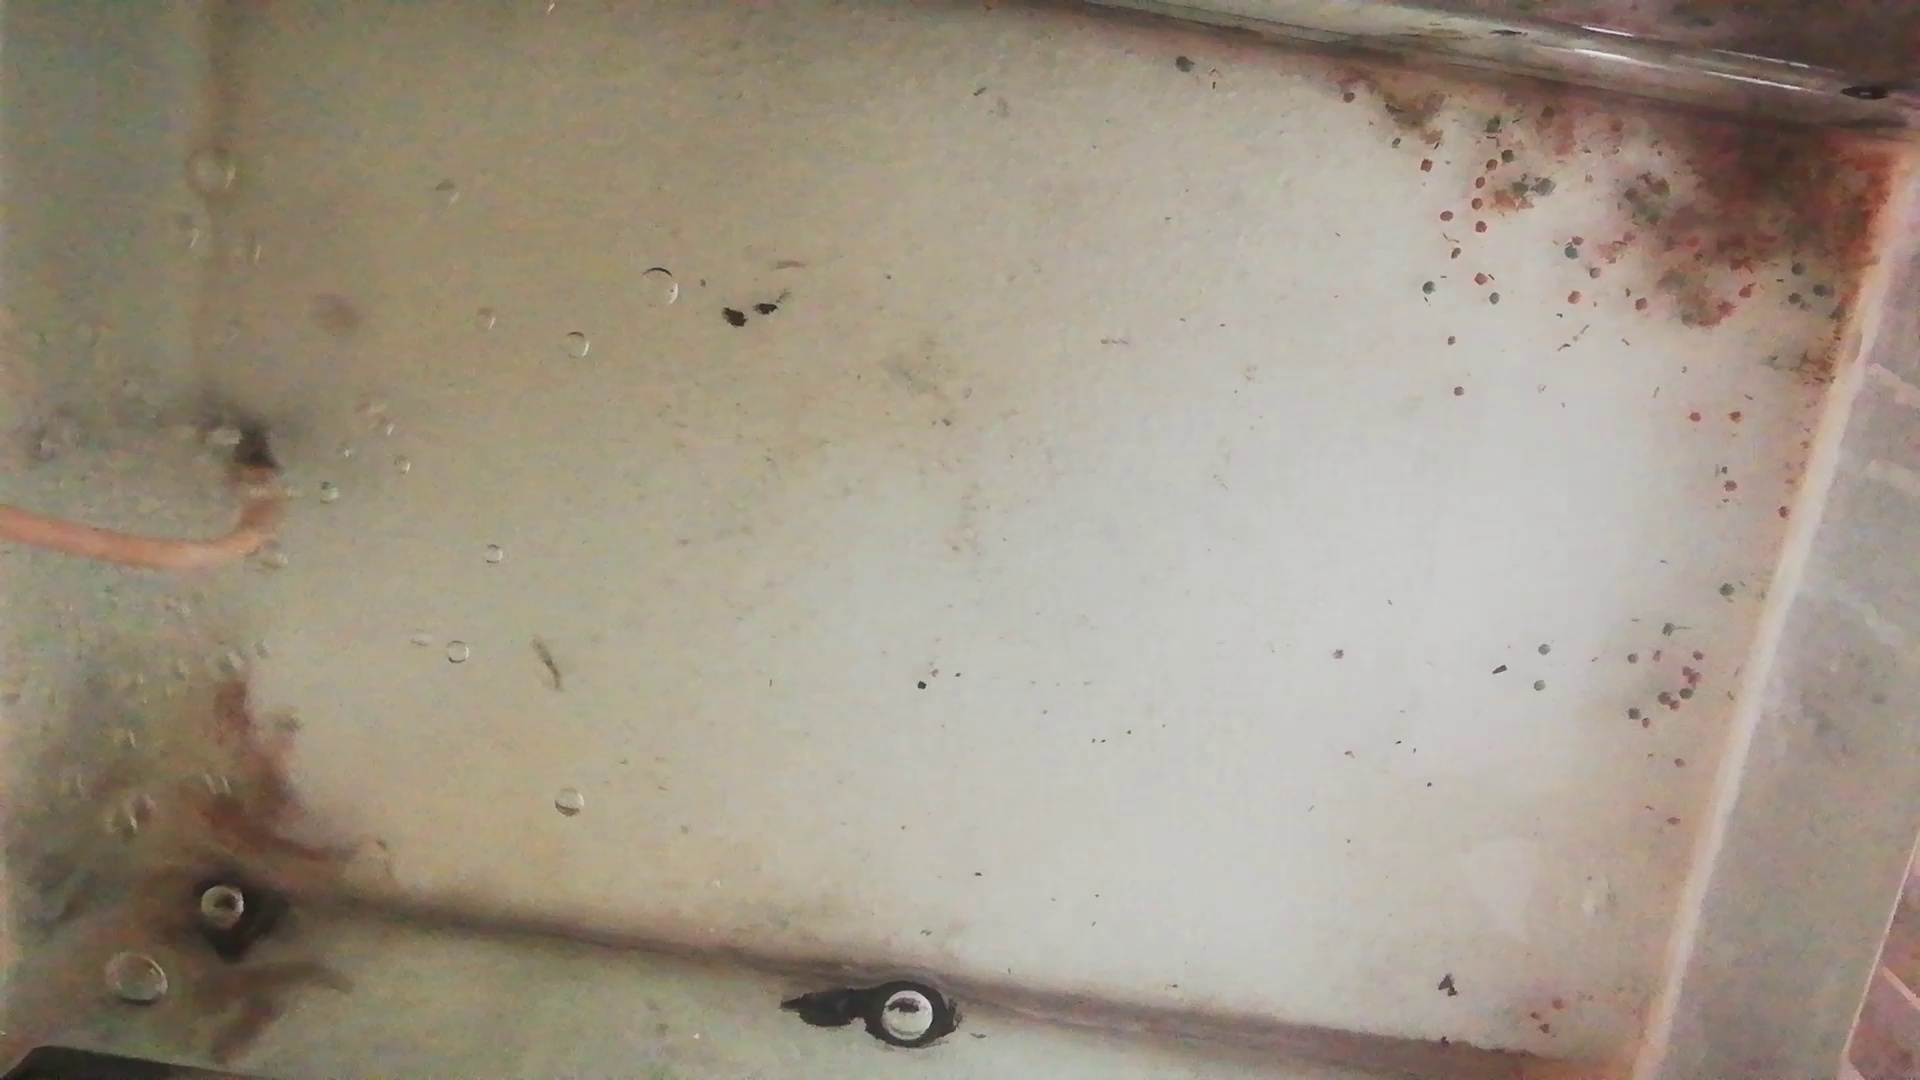fish: (183, 775, 364, 870), (210, 673, 305, 827)
